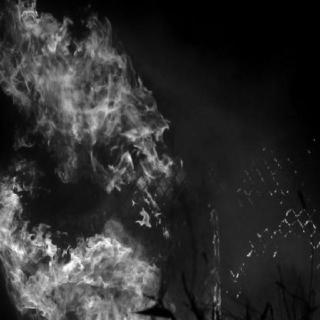Fire: (1, 1, 210, 320)
